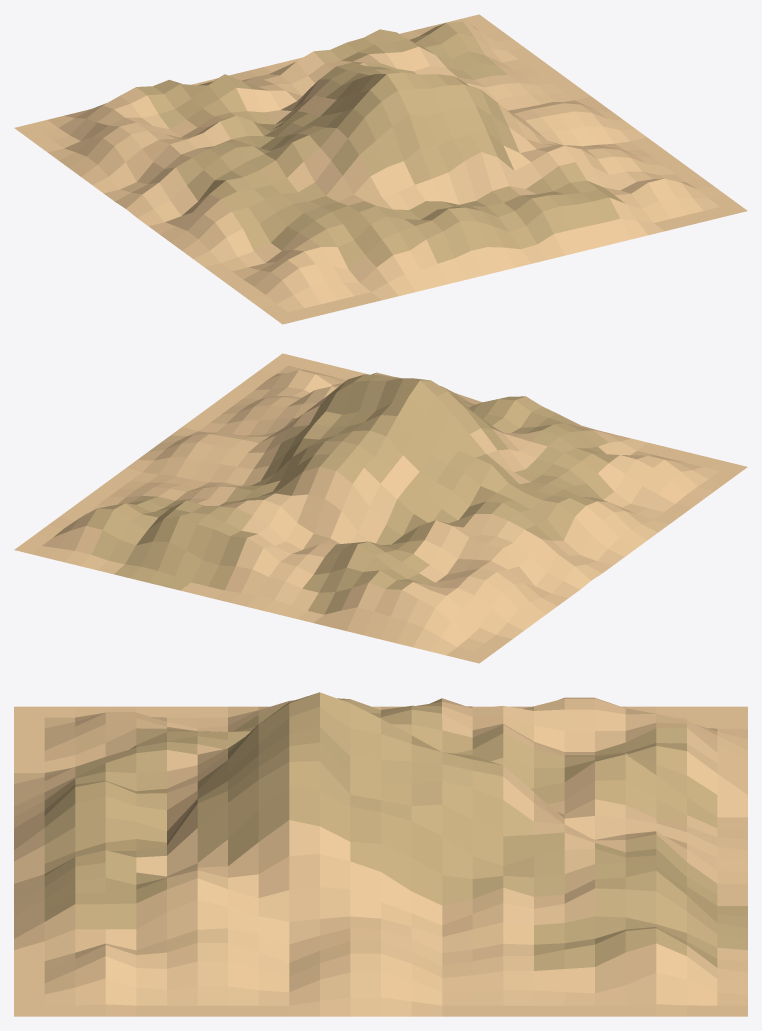
File: Large_Land_002.fbx
The picture shows the model from 3 angles, top to bottom: view 1: azimuth 30°, elevation 25°; view 2: azimuth 150°, elevation 25°; view 3: azimuth 270°, elevation 25°; orthographic projection. The views are drawn at different scales.
Parts seen in each view (by area): view 1: Large_Land.002; view 2: Large_Land.002; view 3: Large_Land.002.
Part boxes in pixels (<box>): Large_Land.002: <box>14,14,747,324</box>; Large_Land.002: <box>14,353,747,663</box>; Large_Land.002: <box>14,692,747,1016</box>.
Size of the model in its own units: 16000 by 3806 by 16000.
